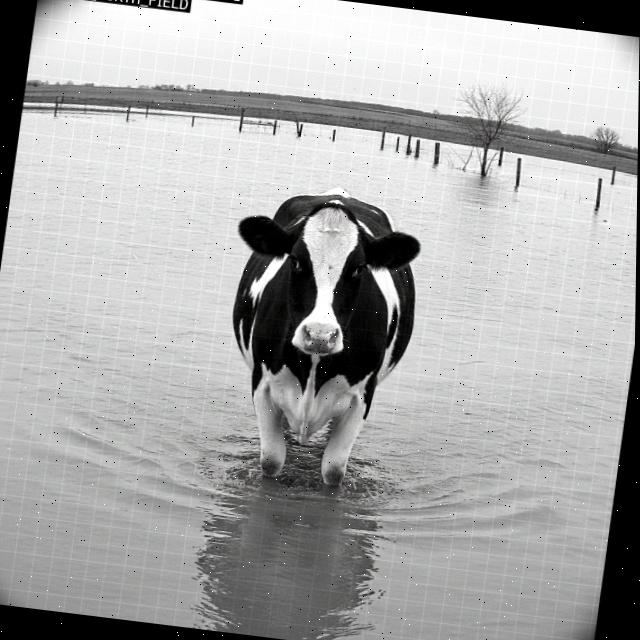cow: (192, 161, 455, 512)
